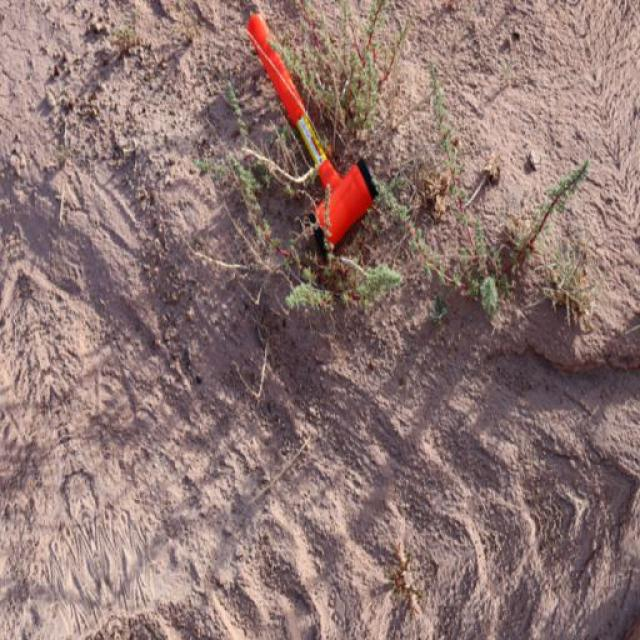mallet: (242, 10, 378, 252)
